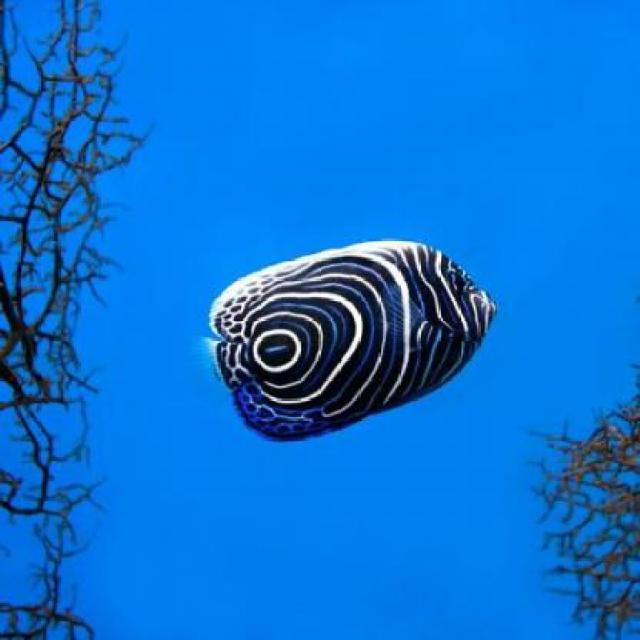AngelFish: (215, 239, 498, 439)
